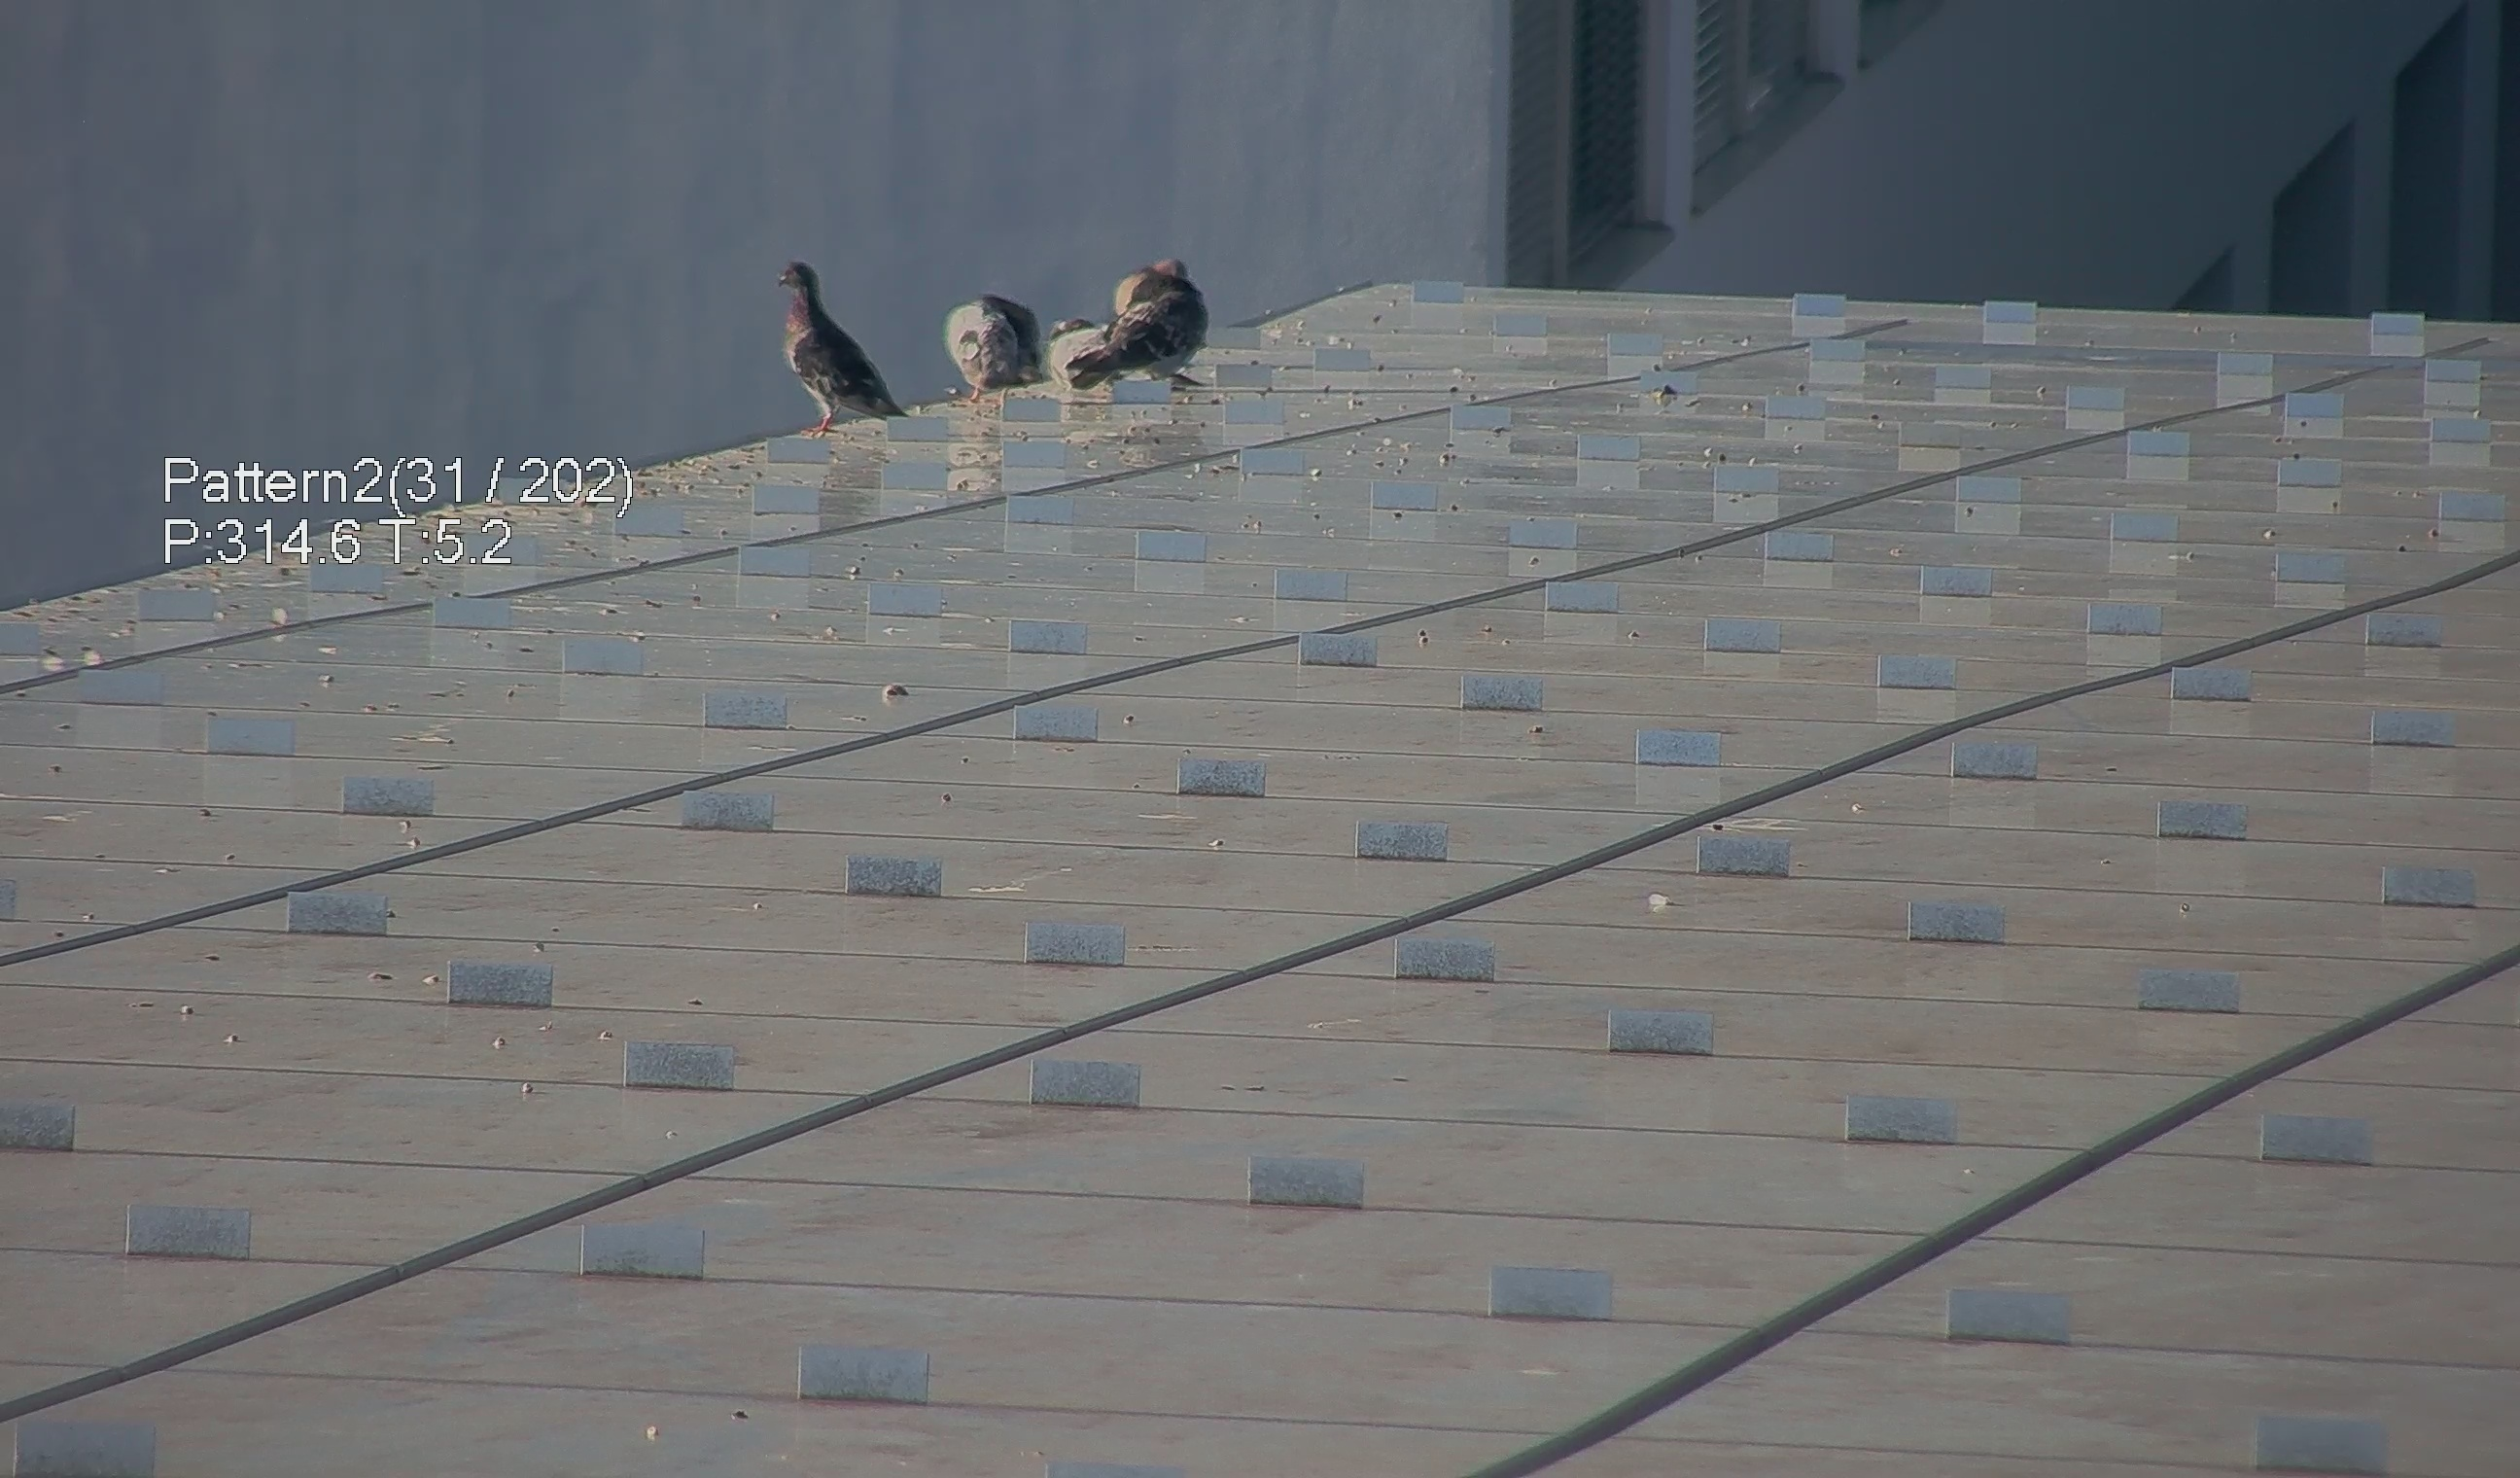Pigeon: (747, 250, 907, 431), (1064, 248, 1217, 392), (930, 285, 1059, 401), (1045, 313, 1120, 401)
